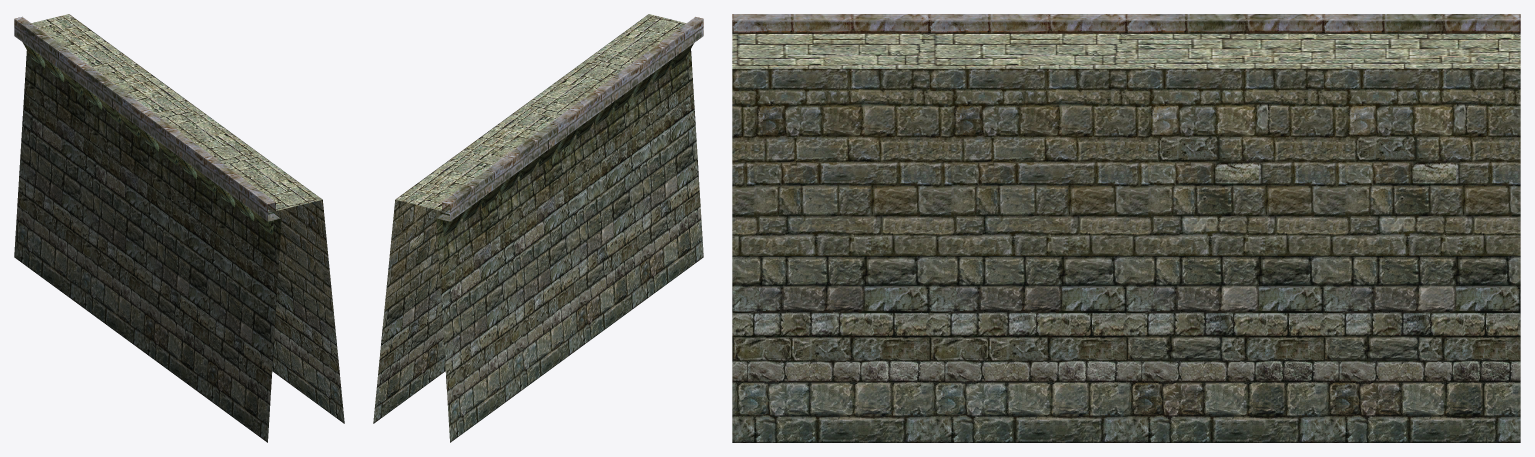
3 renders of one model, left to right at view 1: azimuth 30°, elevation 25°; view 2: azimuth 150°, elevation 25°; view 3: azimuth 270°, elevation 25°, orthographic. The views are drawn at different scales.
Parts seen in each view (by area): view 1: cc98-col; view 2: cc98-col; view 3: cc98-col.
Part boxes in pixels (x1,y1,x2,y2): cc98-col: (14, 14, 344, 442); cc98-col: (373, 14, 703, 442); cc98-col: (732, 14, 1520, 442).
Size of the model in its own units: 2.8 by 8.3 by 16.
Materials: 9 (9 with a texture image).
